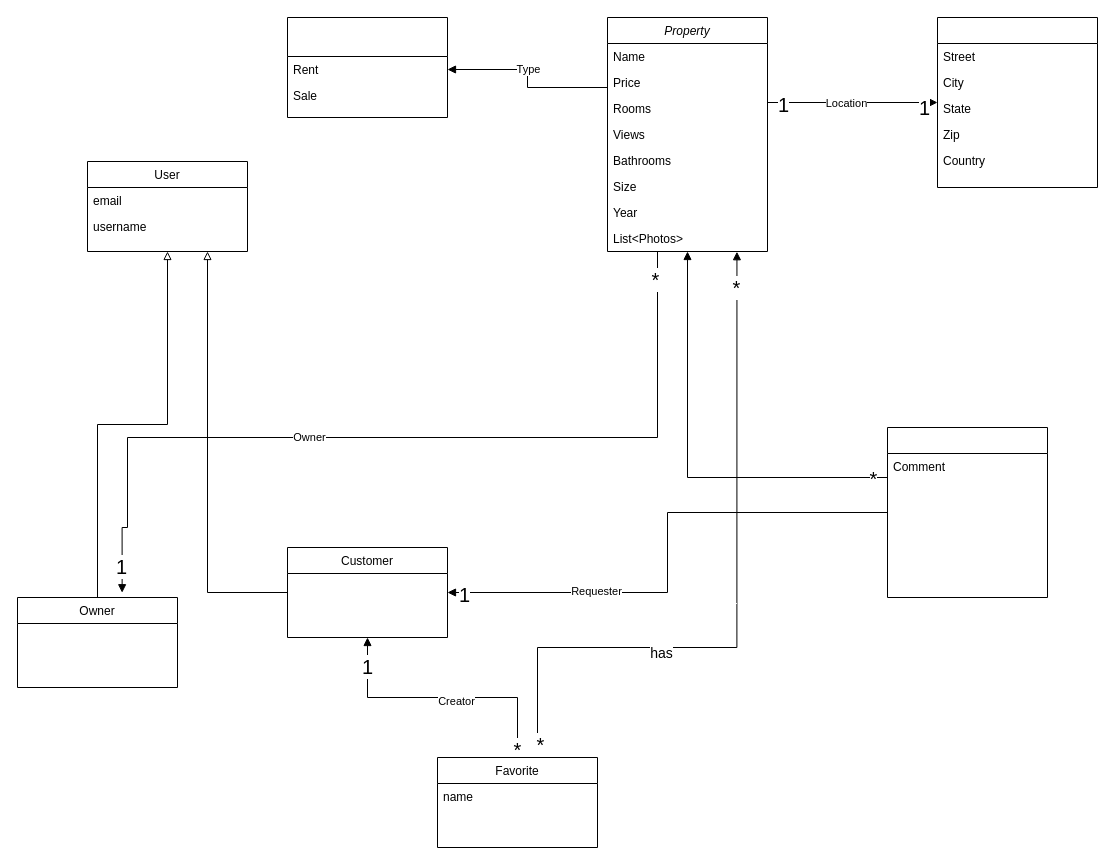
Image size: 1115x865. Some labels were removed from this diagram. Each missing label, with the box of its shape:
Address: (936, 16, 1098, 188)
Enum PropertyType: (286, 16, 448, 118)
Request: (886, 426, 1048, 598)
